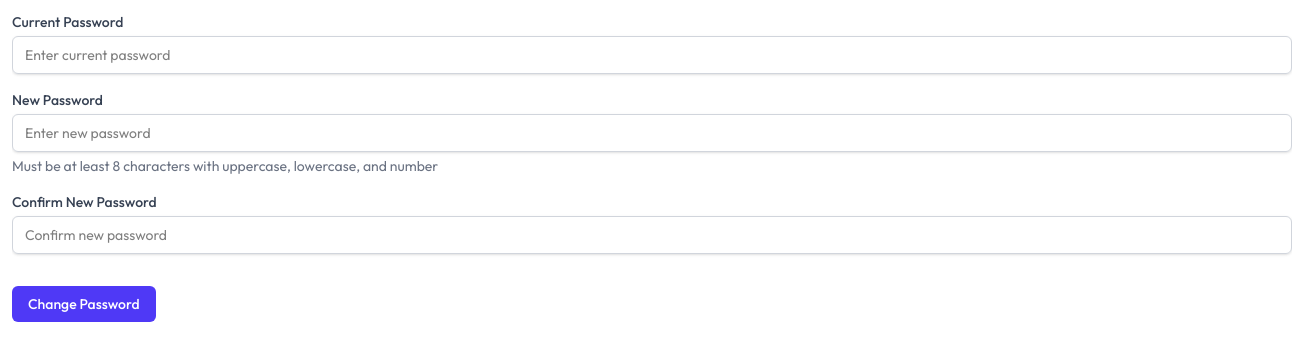
Test: ChangePasswordForm › validates that new password is different from current
Type "SamePassword123" into the password field labelled "Current Password" at (652, 55), box x1=12 y1=36 x2=1292 y2=74
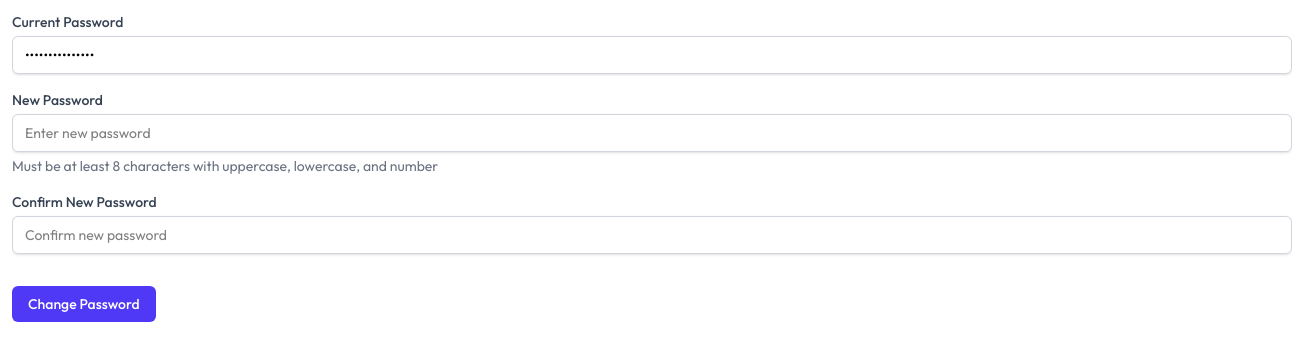
Type "SamePassword123" into the password field labelled "New Password" at (652, 133), box x1=12 y1=114 x2=1292 y2=152
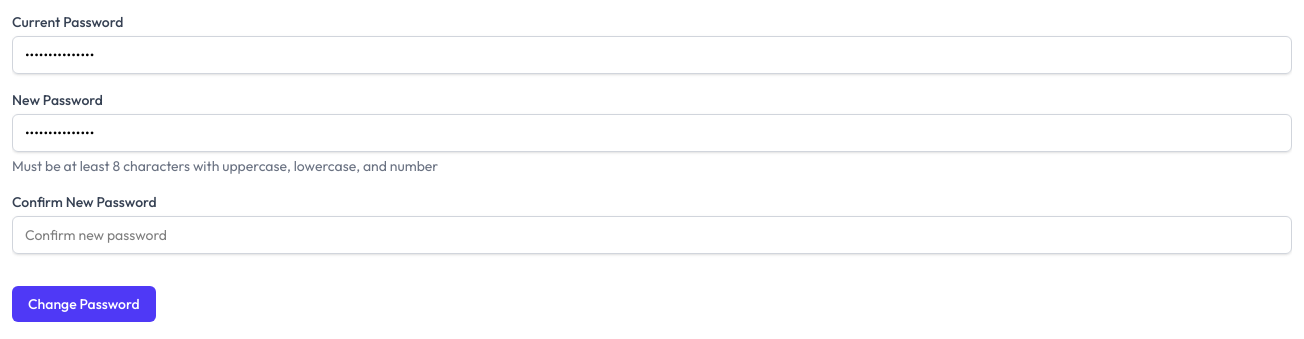
Type "SamePassword123" into the password field labelled "Confirm New Password" at (652, 235), box x1=12 y1=216 x2=1292 y2=254
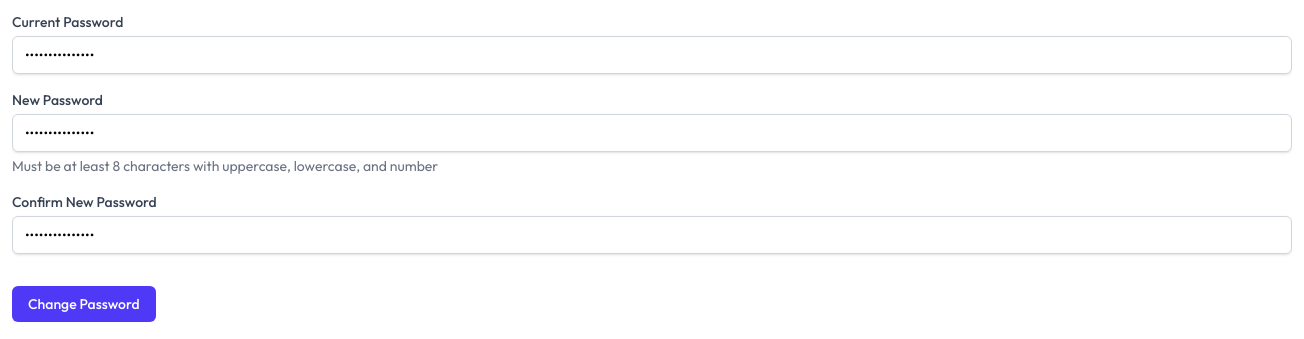
Click the button "Change Password" at (84, 304), box x1=12 y1=286 x2=156 y2=322
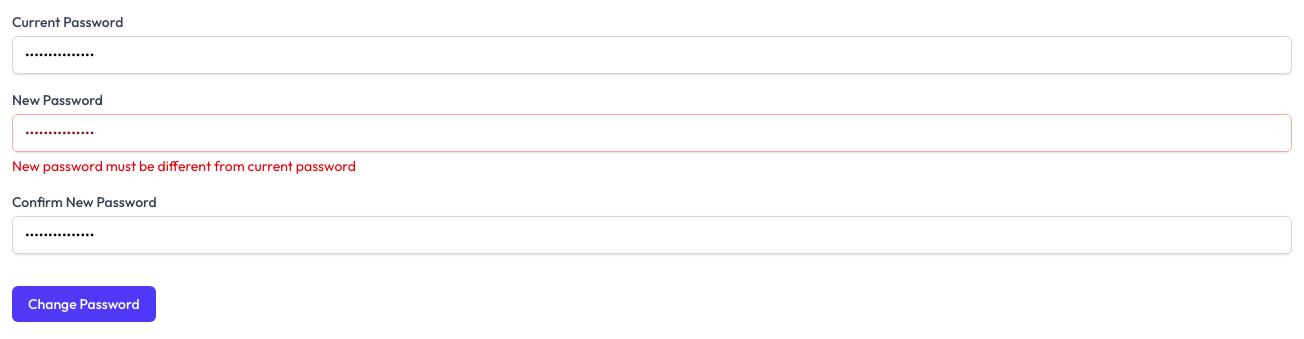
Result: the text "New password must be different from current password" is shown at x1=12 y1=157 x2=356 y2=175
